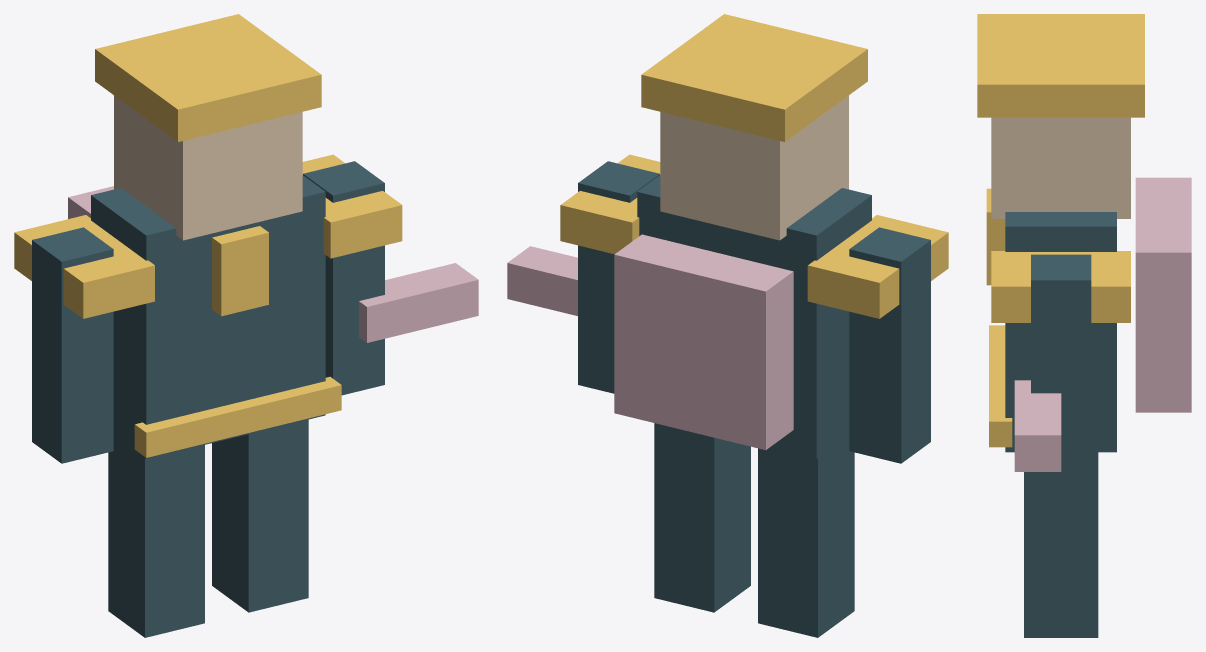
The model's file is 02_vexa_nullborne_custodian_at.glb.
3 renders of one model, left to right at view 1: azimuth 30°, elevation 25°; view 2: azimuth 150°, elevation 25°; view 3: azimuth 270°, elevation 25°, orthographic.
Parts seen in each view (by area): view 1: Vexa Nullborne, Custodian at; view 2: Vexa Nullborne, Custodian at; view 3: Vexa Nullborne, Custodian at.
Boxes of the visible parts, left/top/right/bottom form: Vexa Nullborne, Custodian at: left=14, top=14, right=478, bottom=637; Vexa Nullborne, Custodian at: left=507, top=14, right=948, bottom=637; Vexa Nullborne, Custodian at: left=977, top=14, right=1191, bottom=637.
Bounding box in the file's own units: 1.11 × 1.41 × 0.5001.
